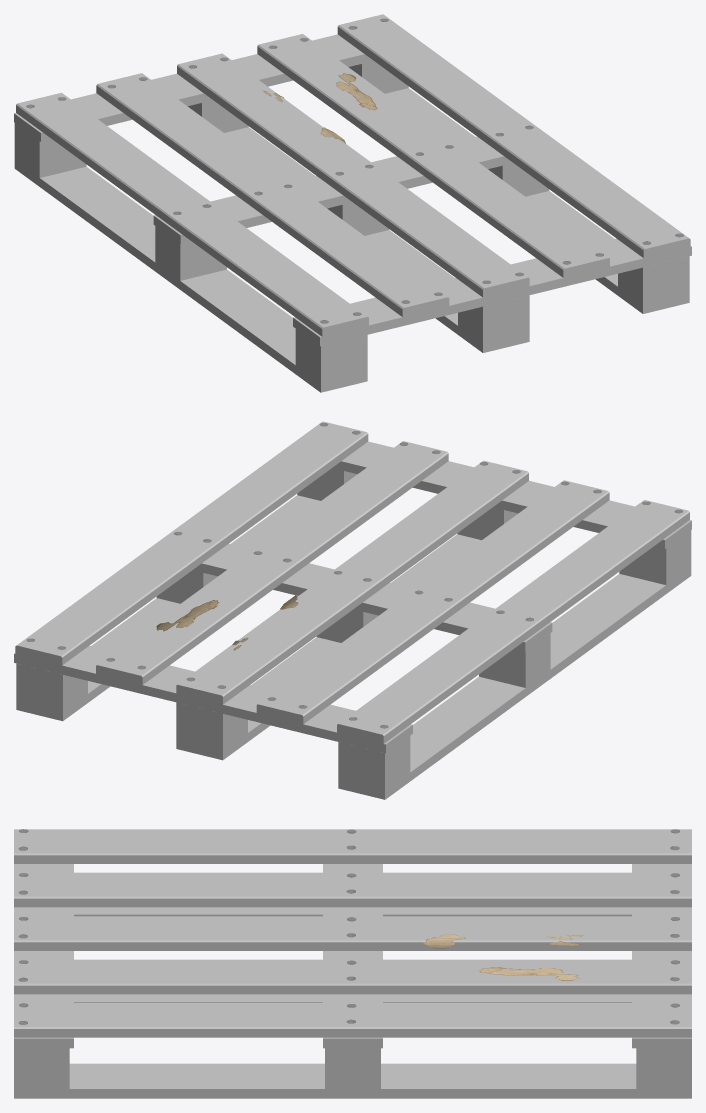
Rendered from Atlas_Wood_Cardboard_Palet.fbx.
3 renders of one model, top to bottom at view 1: azimuth 30°, elevation 25°; view 2: azimuth 150°, elevation 25°; view 3: azimuth 270°, elevation 25°, orthographic. The views are drawn at different scales.
Parts seen in each view (by area): view 1: Atlas_Wood_Cardboard_Palet_LOD0; view 2: Atlas_Wood_Cardboard_Palet_LOD0; view 3: Atlas_Wood_Cardboard_Palet_LOD0.
Boxes of the visible parts, bbox=[...] form: Atlas_Wood_Cardboard_Palet_LOD0: bbox=[14, 14, 691, 392]; Atlas_Wood_Cardboard_Palet_LOD0: bbox=[14, 421, 691, 799]; Atlas_Wood_Cardboard_Palet_LOD0: bbox=[14, 829, 691, 1098].
Size of what is drawn, in the model's own units: 191 by 32.22 by 272.
